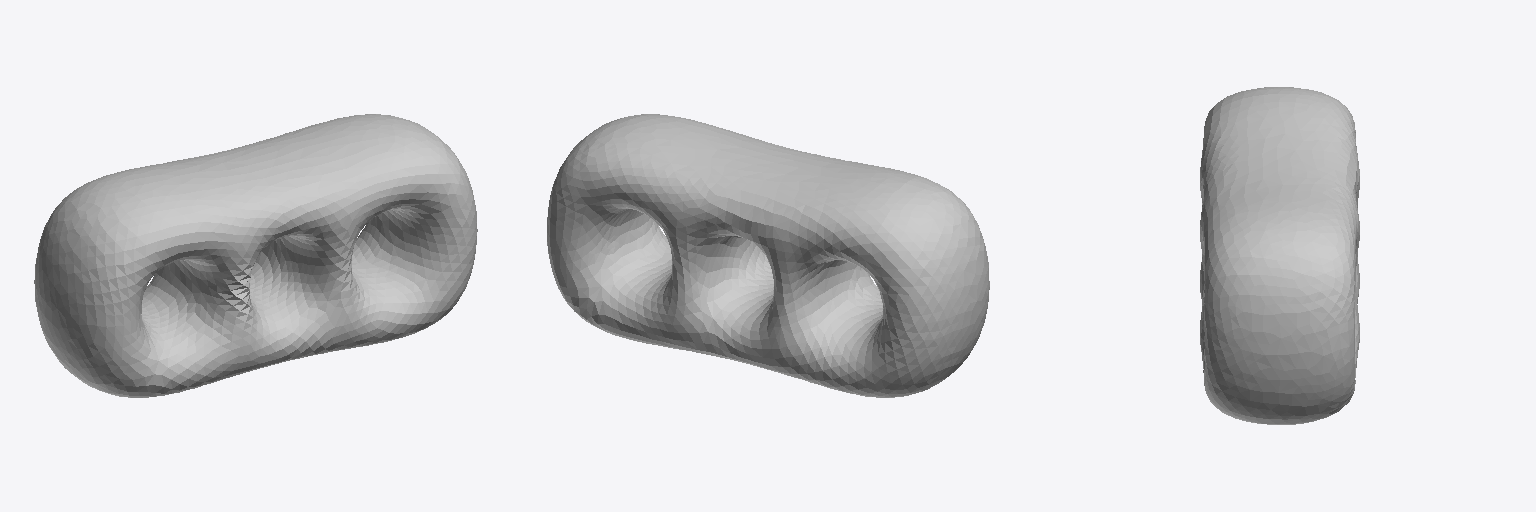
The model's file is 3holes.obj.
3 renders of one model, left to right at view 1: azimuth 30°, elevation 25°; view 2: azimuth 150°, elevation 25°; view 3: azimuth 270°, elevation 25°, orthographic.
Size of the model in its own units: 2.7 by 1.26 by 0.9231.